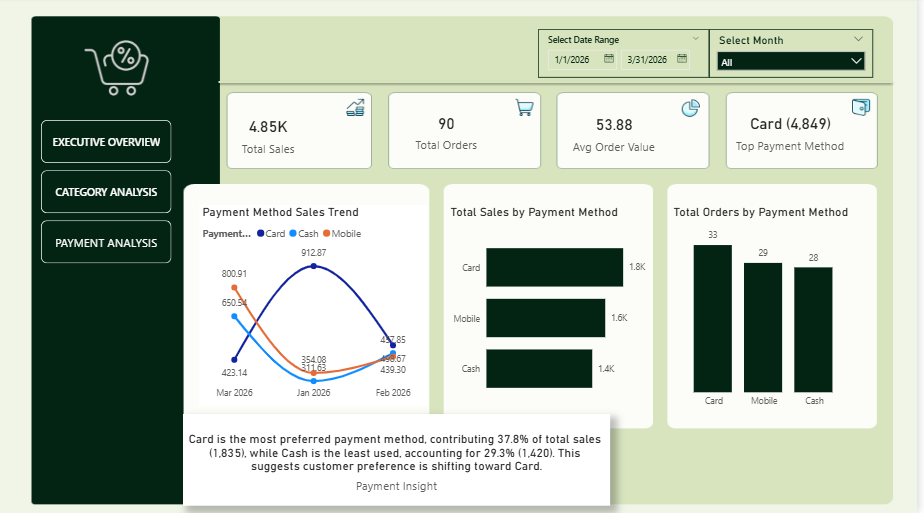

The page's visual inventory and layout, read from the dashboard file:
{"tool":"powerbi","page":{"name":"PAYMENT ANALYSIS ","canvas":[1280,720],"ordinal":2},"visuals":[{"type":"card","fields":{"Values":["Supermarket.Total Sales"]},"box":[294.5,149.7,162.4,82.8],"z":0},{"type":"card","fields":{"Values":["Supermarket.Avg Order Value"]},"box":[780.1,143.3,156,89.2],"z":1000},{"type":"columnChart","title":"Total Orders by Payment Method","fields":{"Y":["Supermarket.Total Orders"],"Category":["Supermarket.PaymentMethod"]},"box":[936.1,289.8,262.7,291.3],"z":2000},{"type":"slicer","fields":{"Values":["Date Table.Date"]},"box":[751.4,44.6,238.8,68.5],"z":3000},{"type":"slicer","fields":{"Values":["Date Table.Month Year"]},"box":[990.2,44.6,229.3,68.5],"z":4000},{"type":"pageNavigator","box":[58.6,171.6,182.8,200.9],"z":5000},{"type":"lineChart","title":"Payment Method Sales Trend","fields":{"Category":["Date Table.Month Year"],"Y":["Supermarket.Total Sales"],"Series":["Supermarket.PaymentMethod"]},"box":[278.6,289.8,320,280.2],"z":6000},{"type":"clusteredBarChart","title":"Total Sales by Payment Method","fields":{"Category":["Supermarket.PaymentMethod"],"Y":["Supermarket.Total Sales"]},"box":[625.7,289.8,285,291.3],"z":7000},{"type":"card","fields":{"Values":["Supermarket.Payment Insight"]},"box":[256.7,581.9,595.8,128.4],"z":8000},{"type":"card","fields":{"Values":["Supermarket.Total Orders"]},"box":[547.7,141.7,154.4,87.6],"z":9000},{"type":"card","fields":{"Values":["Supermarket.Top Payment Method Display"]},"box":[1002.3,131.2,204.4,111.4],"z":10000}]}

Visuals, with their boxes in screenshot pixels (x1, y1, x2, y2), scaled from the page's 1280x720 canvas onto the 924x513 screenshot:
card - Supermarket.Total Sales: Rect(213, 107, 330, 166)
card - Supermarket.Avg Order Value: Rect(563, 102, 676, 166)
"Total Orders by Payment Method" columnChart: Rect(676, 206, 865, 414)
slicer - Date Table.Date: Rect(542, 32, 715, 81)
slicer - Date Table.Month Year: Rect(715, 32, 880, 81)
pageNavigator: Rect(42, 122, 174, 265)
"Payment Method Sales Trend" lineChart: Rect(201, 206, 432, 406)
"Total Sales by Payment Method" clusteredBarChart: Rect(452, 206, 657, 414)
card - Supermarket.Payment Insight: Rect(185, 415, 615, 506)
card - Supermarket.Total Orders: Rect(395, 101, 507, 163)
card - Supermarket.Top Payment Method Display: Rect(724, 93, 871, 173)
